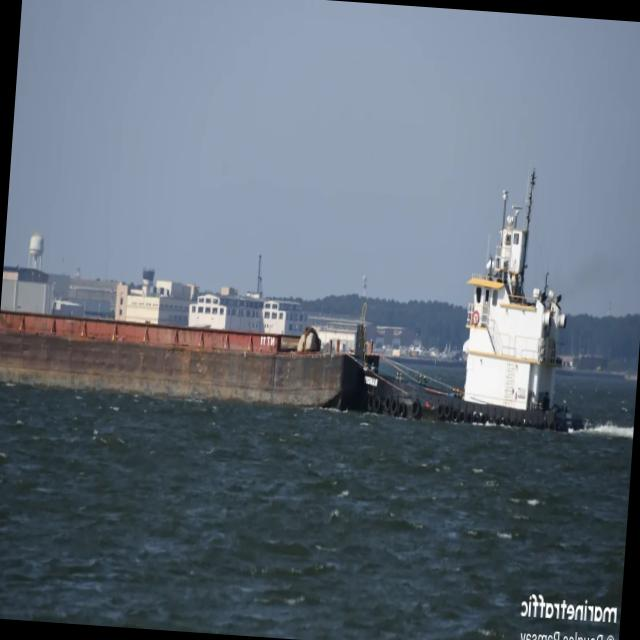Tug: (364, 171, 582, 431)
